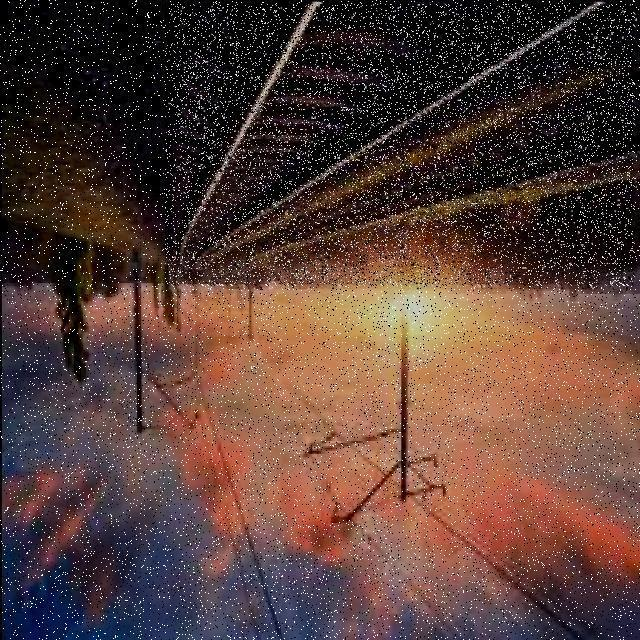rail: (167, 5, 635, 286)
